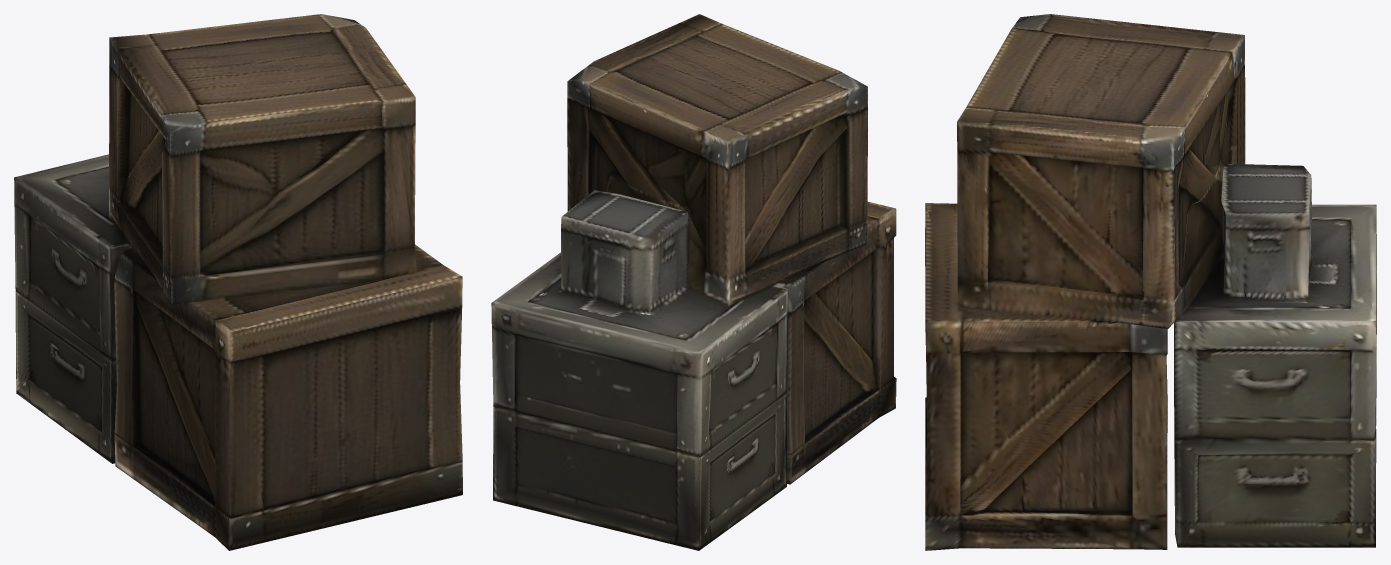
Rendered from tripo_convert_157725c9-f52b-4823-bb98-d4daf002698b.fbx.
3 renders of one model, left to right at view 1: azimuth 30°, elevation 25°; view 2: azimuth 150°, elevation 25°; view 3: azimuth 270°, elevation 25°, orthographic. The views are drawn at different scales.
Visible parts, largest first — view 1: tripo_node_157725c9; view 2: tripo_node_157725c9; view 3: tripo_node_157725c9.
Part boxes in pixels (box(x1,y1,x2,y2)): tripo_node_157725c9: box(14, 14, 462, 550); tripo_node_157725c9: box(491, 14, 896, 550); tripo_node_157725c9: box(925, 14, 1376, 550).
Size of the model in its own units: 0.6794 by 0.9981 by 0.9878.
1 material, 1 textured.
